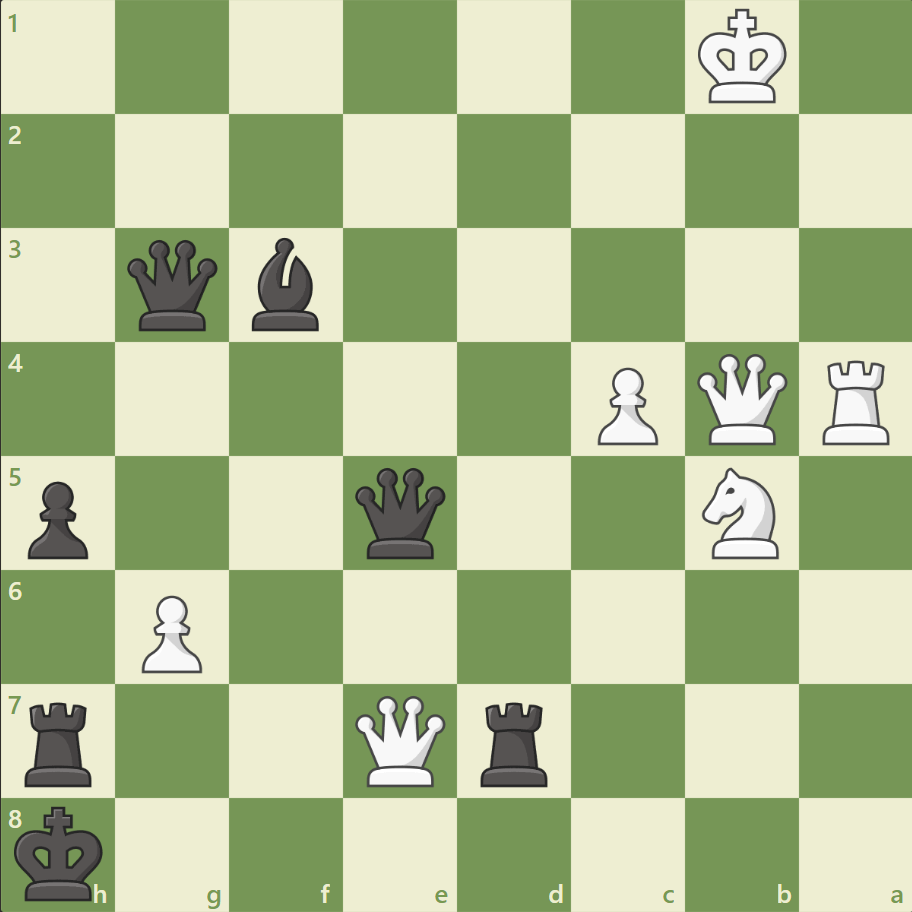K: (692, 4, 792, 112)
N: (692, 461, 789, 564)
P: (133, 586, 208, 677), (588, 359, 662, 450)
Q: (691, 349, 790, 449), (351, 690, 450, 789)
R: (814, 352, 897, 449)
b: (244, 233, 328, 336)
k: (11, 798, 111, 906)
p: (20, 473, 95, 564)
q: (351, 463, 450, 562), (124, 236, 223, 335)
r: (473, 693, 556, 790), (19, 693, 102, 790)
